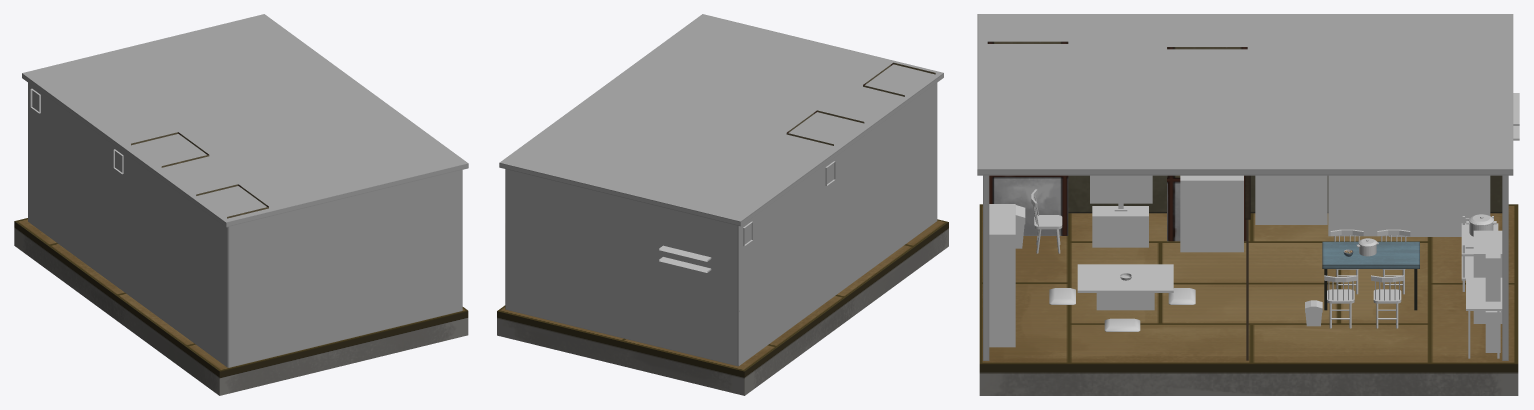
Rendered from People's house01.fbx.
3 renders of one model, left to right at view 1: azimuth 30°, elevation 25°; view 2: azimuth 150°, elevation 25°; view 3: azimuth 270°, elevation 25°, orthographic. The views are drawn at different scales.
Visible parts, largest first — view 1: Cube.122, Cube.110, Cube.108, Cube.096; view 2: Cube.122, Cube.109, Cube.108, Cube.096; view 3: Cube.122, Cube.096, Cube.050, Cube.131, Cube.048, Cube.032, Cube.045, Cube.145, Cube.028, Cube.034, Cube.108, Cube.044 (+12 smaller).
Boxes of the visible parts, x1,y1,x2,y2 form: Cube.122: (22, 14, 468, 227); Cube.110: (228, 170, 462, 367); Cube.108: (28, 82, 228, 367); Cube.096: (14, 218, 468, 395); Cube.122: (499, 14, 943, 226); Cube.109: (505, 169, 737, 366); Cube.108: (738, 83, 937, 366); Cube.096: (497, 219, 948, 395); Cube.122: (977, 14, 1513, 175); Cube.096: (979, 204, 1518, 395); Cube.050: (1389, 175, 1490, 236); Cube.131: (1180, 175, 1243, 252); Cube.048: (989, 204, 1015, 347); Cube.032: (1255, 175, 1327, 224); Cube.045: (1328, 175, 1388, 236); Cube.145: (987, 41, 1068, 235); Cube.028: (1077, 264, 1173, 292); Cube.034: (1322, 241, 1419, 310); Cube.108: (1068, 175, 1502, 213); Cube.044: (1092, 206, 1148, 247).
Bounding box in the file's own units: 271 × 181 × 390.
